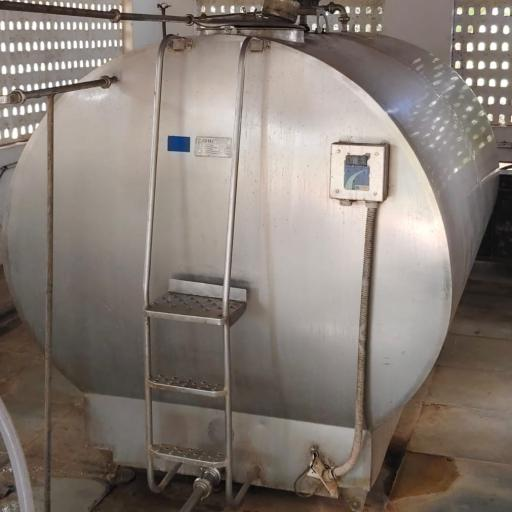silo: (5, 13, 497, 490)
